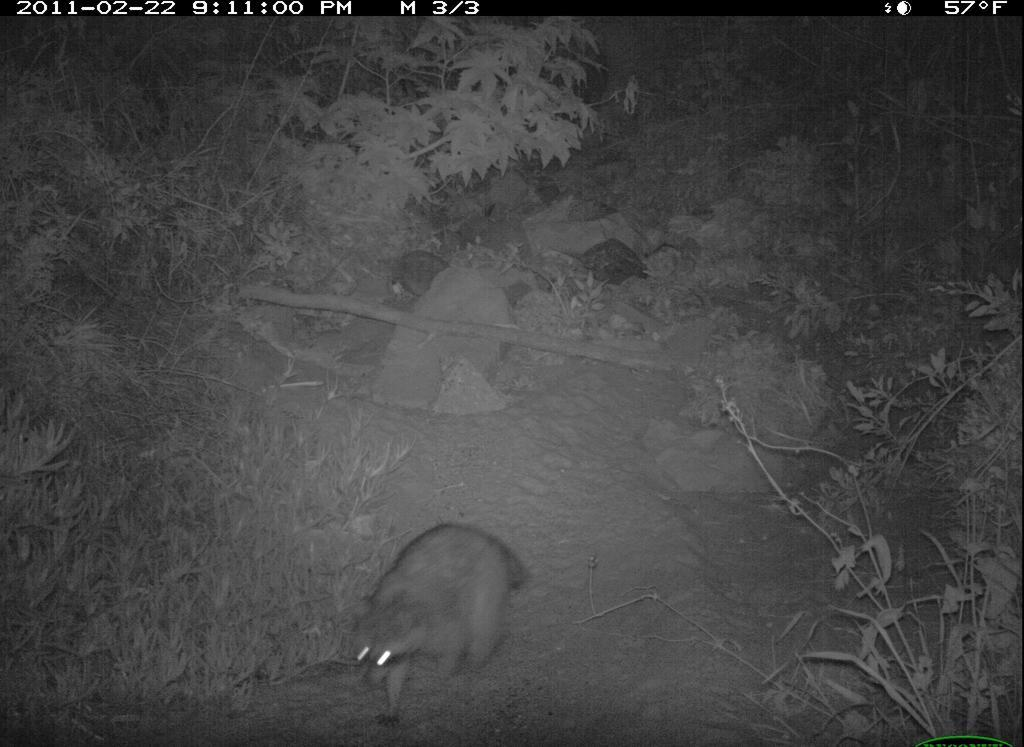raccoon: (347, 497, 539, 733)
